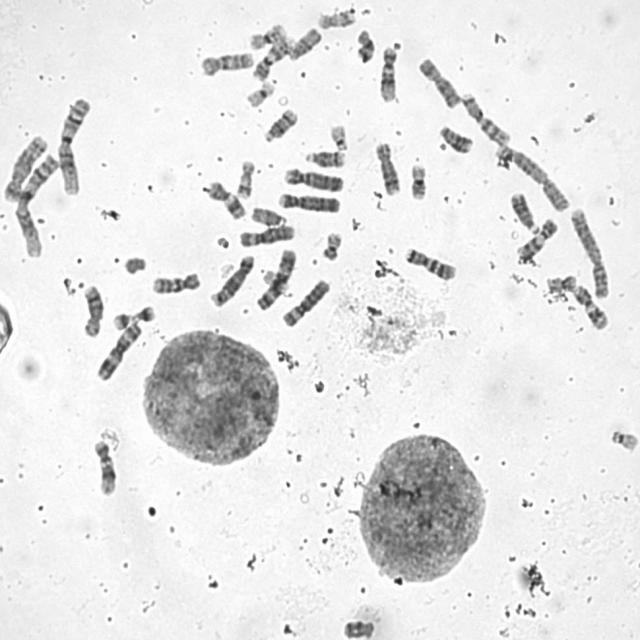A1: (13, 152, 60, 260), (55, 94, 92, 196)
A2: (492, 141, 572, 214), (568, 204, 612, 299)
A3: (94, 319, 144, 382), (253, 245, 299, 312)
B4: (282, 164, 345, 193), (275, 190, 342, 214)
B5: (2, 131, 48, 203), (208, 252, 256, 308)
C10: (198, 49, 254, 78), (149, 269, 203, 295)
C11: (570, 279, 610, 332), (205, 177, 248, 221)
C12: (90, 438, 118, 497), (376, 44, 398, 104)
C6: (279, 276, 331, 328), (237, 222, 297, 248)
C7: (458, 88, 514, 147), (401, 242, 459, 281)
C8: (372, 140, 401, 196), (79, 280, 105, 338)
C9: (249, 32, 295, 82), (514, 215, 559, 261)
D13: (507, 188, 541, 234), (436, 123, 473, 154)
D14: (260, 105, 300, 144), (304, 148, 346, 168)
D15: (286, 24, 324, 62), (249, 203, 288, 226)
E16: (245, 19, 287, 51), (407, 160, 429, 202)
E17: (234, 156, 256, 200), (315, 8, 357, 30)
E18: (338, 613, 379, 639), (354, 26, 376, 63)
F19: (243, 78, 276, 108), (261, 268, 292, 294)
F20: (319, 229, 343, 262), (545, 272, 578, 295)
G21: (131, 302, 157, 323), (110, 310, 132, 331)
G22: (608, 425, 639, 453), (326, 120, 351, 152)
X: (416, 54, 462, 110)
Y: (121, 253, 148, 275)
